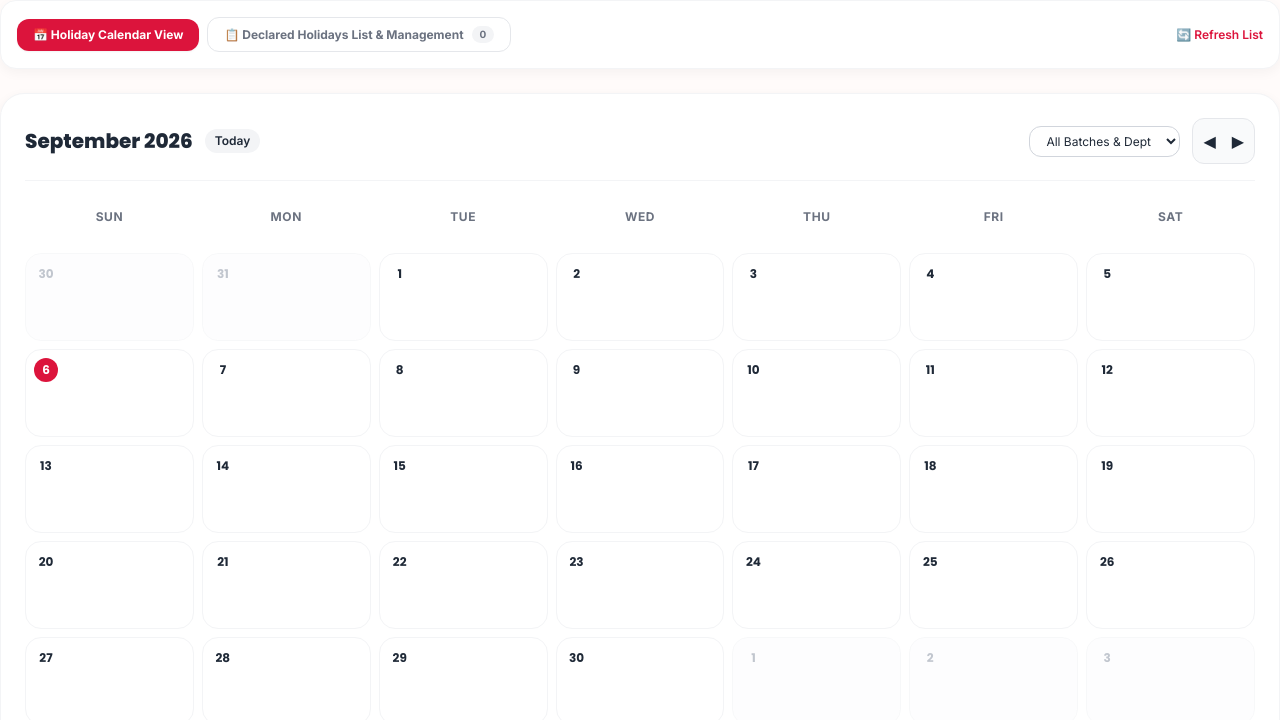
it: HolidayManager Component › renders calendar view by default and switches to list view
This screenshot has width=1280, height=720.
Expected: the text "📅 Holiday Calendar View" is shown, [33,27,183,43]
# Switch to List View
Click the text "📋 Declared Holidays List & Management".
click(344, 35)  # box [224,27,464,43]
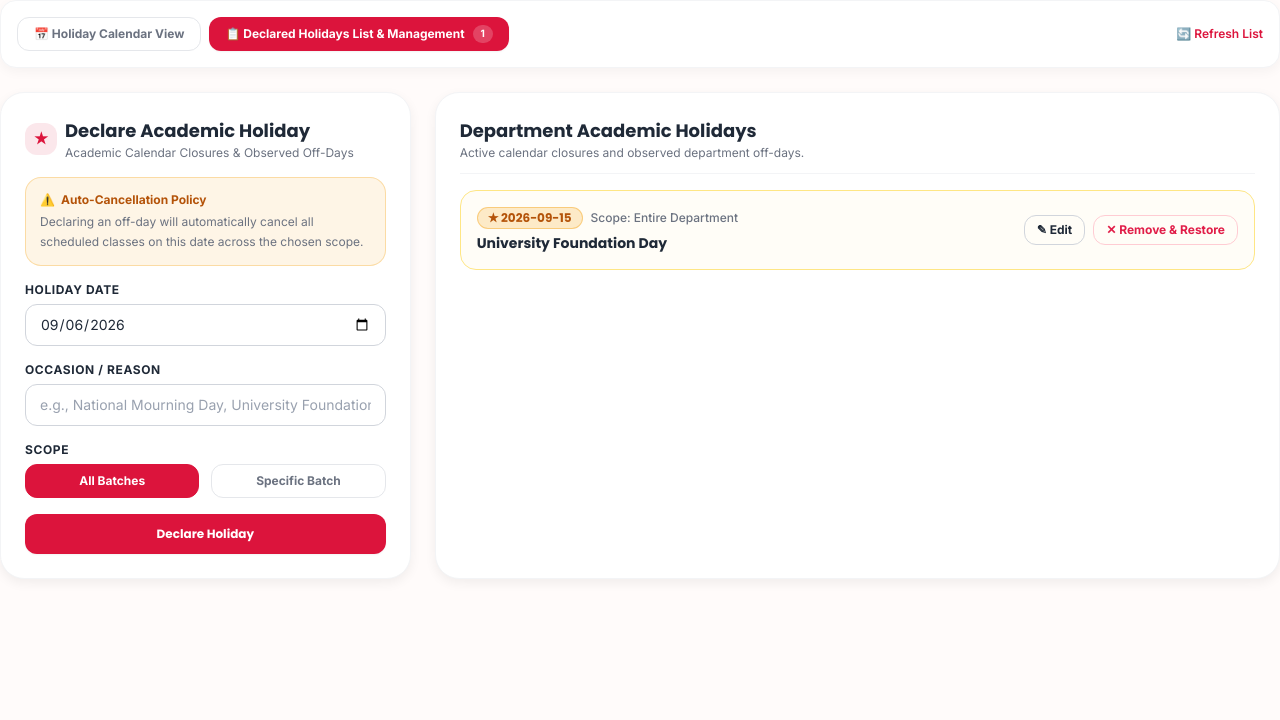
Expected: the heading "Department Academic Holidays" is shown, [460,117,804,145]
Expected: the heading "Declare Academic Holiday" is shown, [65,118,310,143]
Expected: the button "✕ Remove & Restore" is shown, [1093,215,1238,245]
